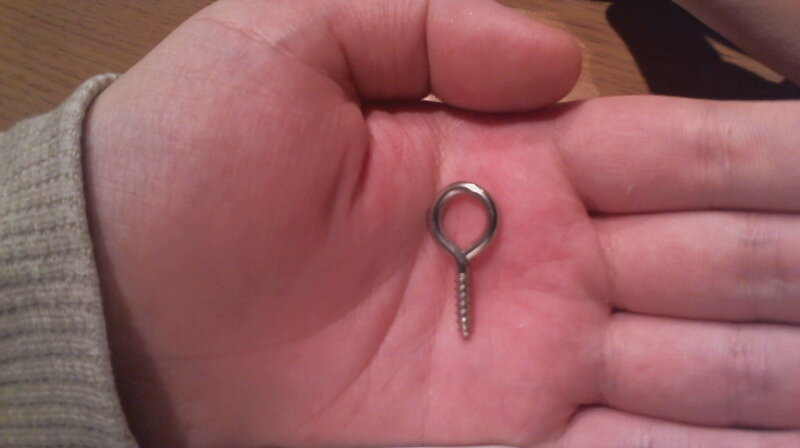O001: (423, 177, 505, 344)
